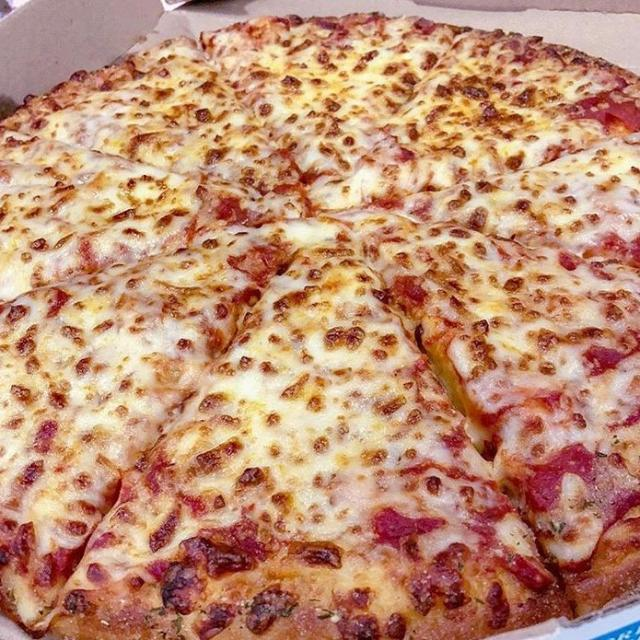pepperoni: (525, 444, 640, 534), (473, 516, 551, 594), (11, 514, 74, 588), (561, 80, 640, 138), (564, 318, 640, 378), (364, 496, 457, 544)
pizza: (0, 13, 640, 640)
